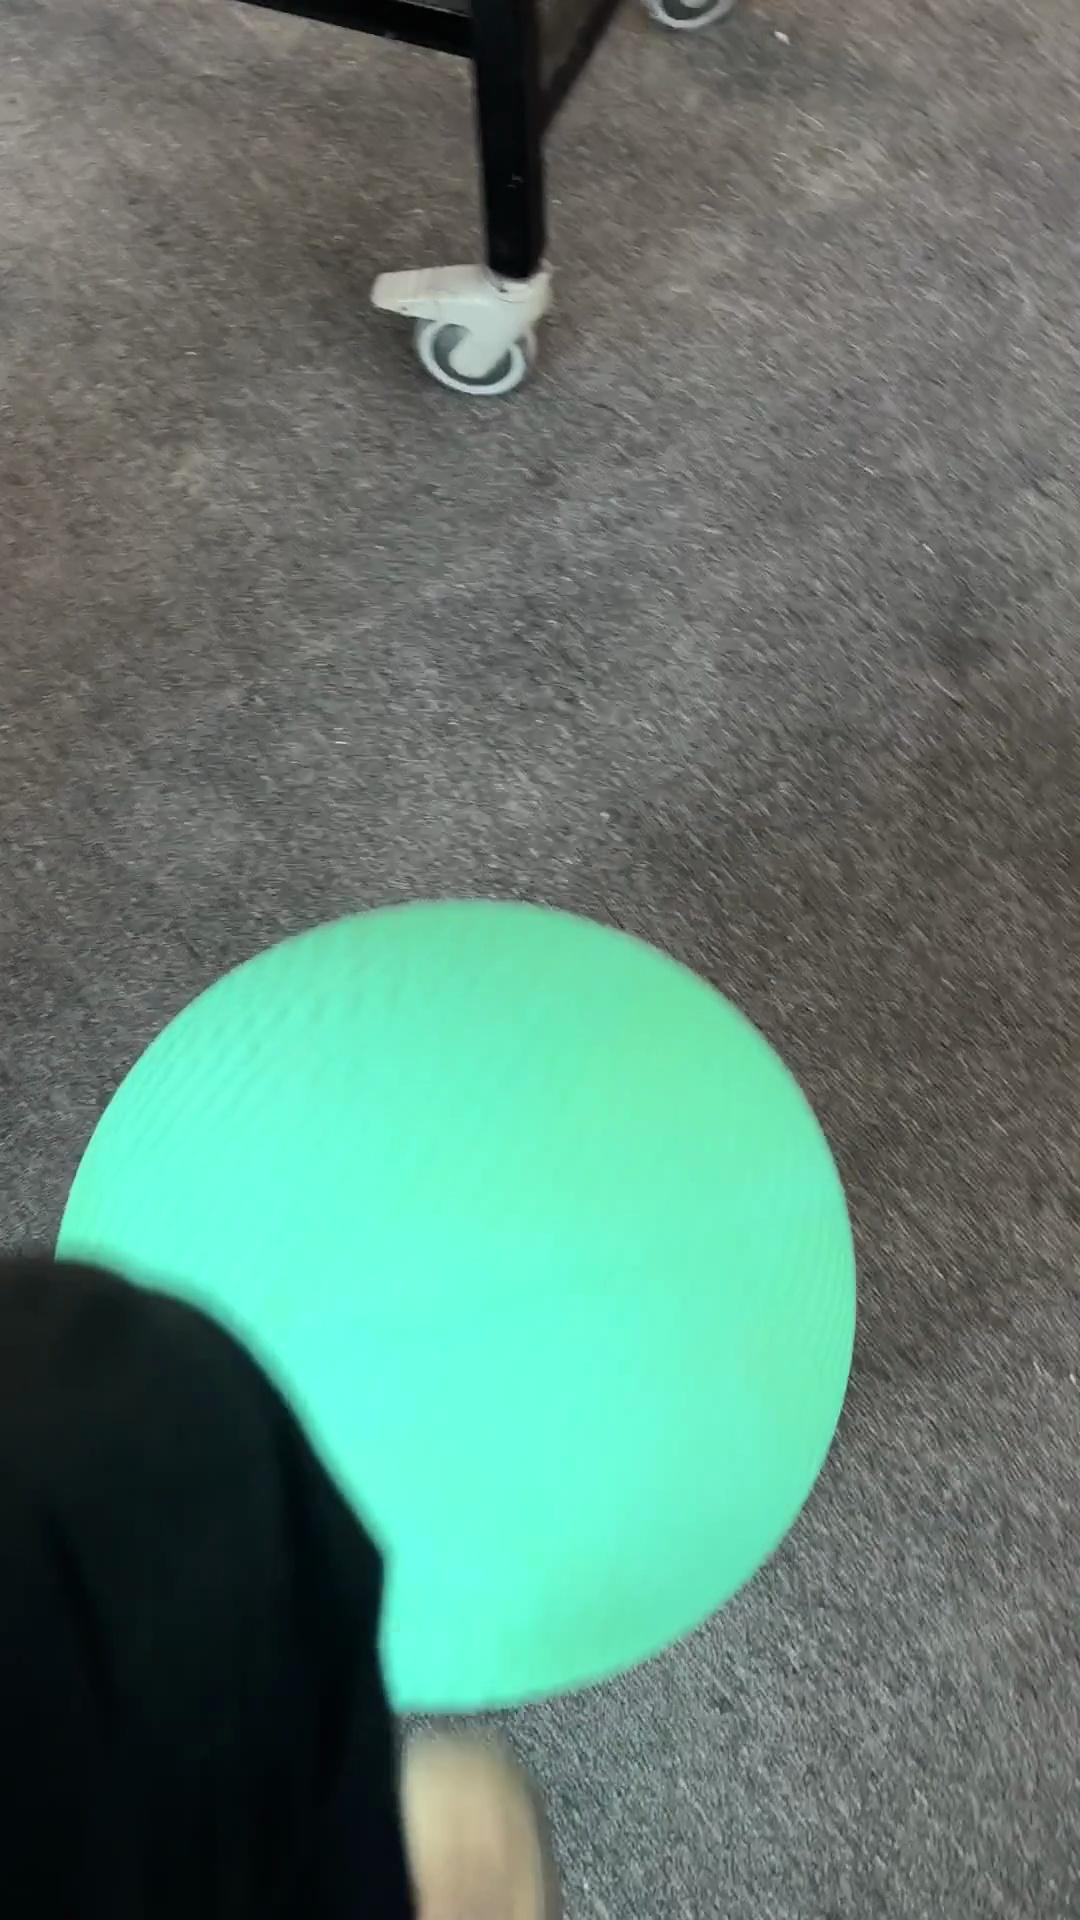ALGAE: (51, 894, 860, 1716)
